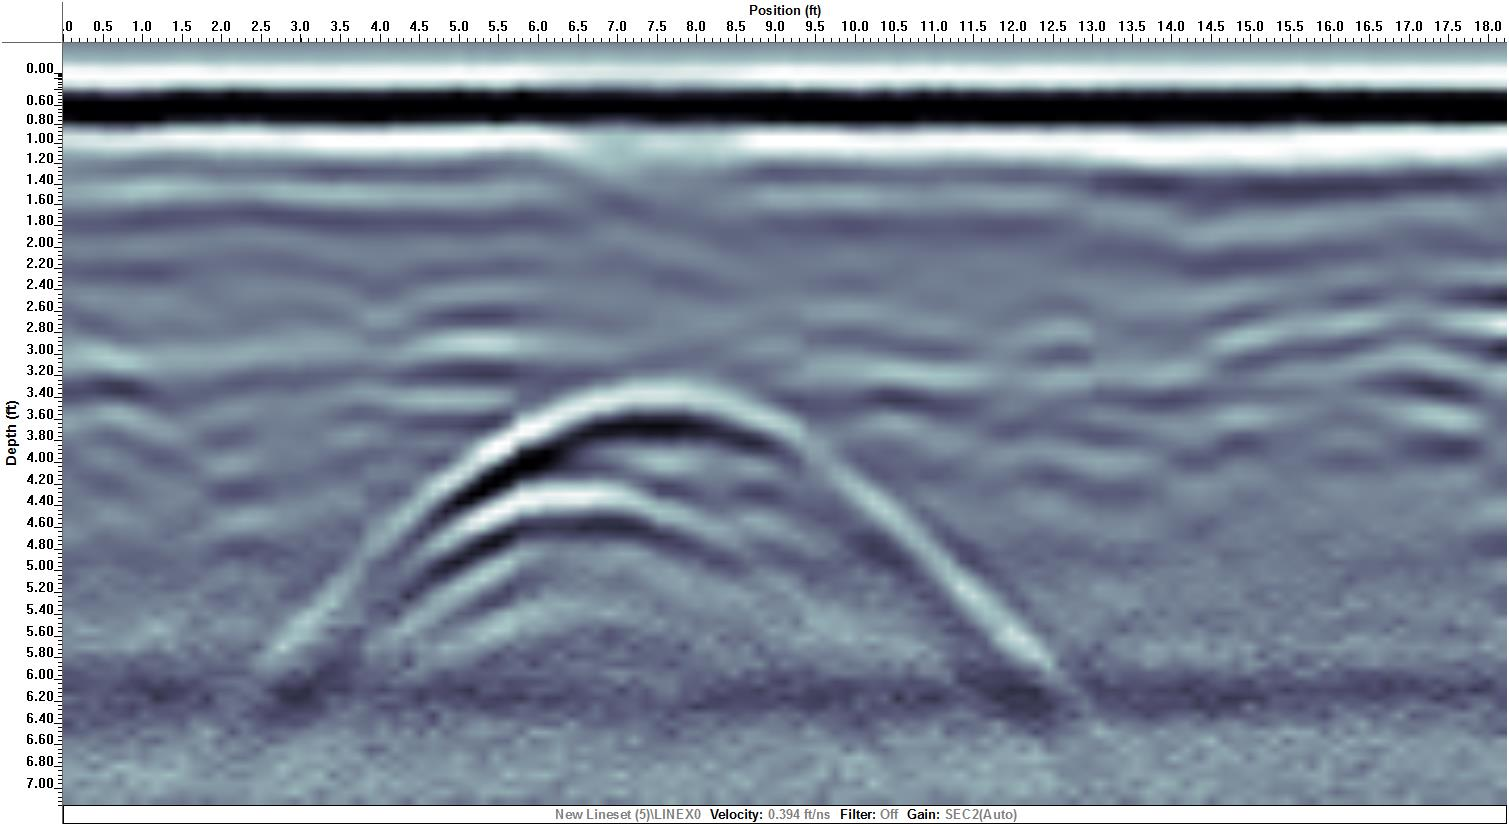hyperbola: (249, 371, 1107, 683)
